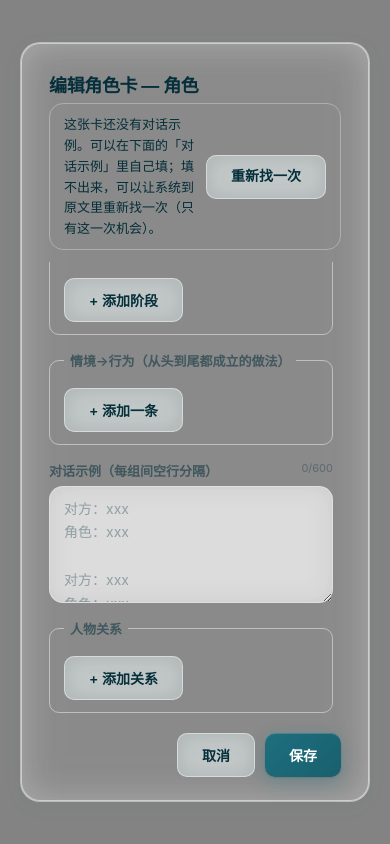
Scenario: 重新找一次 › M4 还是没找到 → 说明没找到、聊天不受影响，按钮没了
This screenshot has width=390, height=844.
(page scrolled)
Click the button "重新找一次": (266, 177) [206, 155, 326, 199]
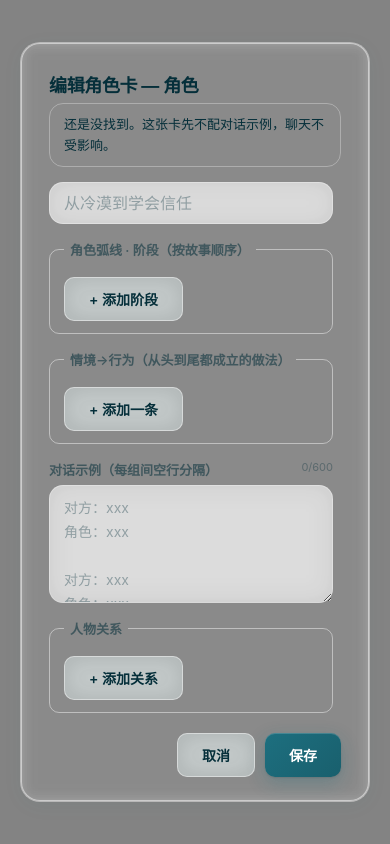
Check: the text "还是没找到。这张卡先不配对话示例，聊天不受影响。" is shown, box [49, 103, 341, 167]
Check: the text "重新找一次" is gone
